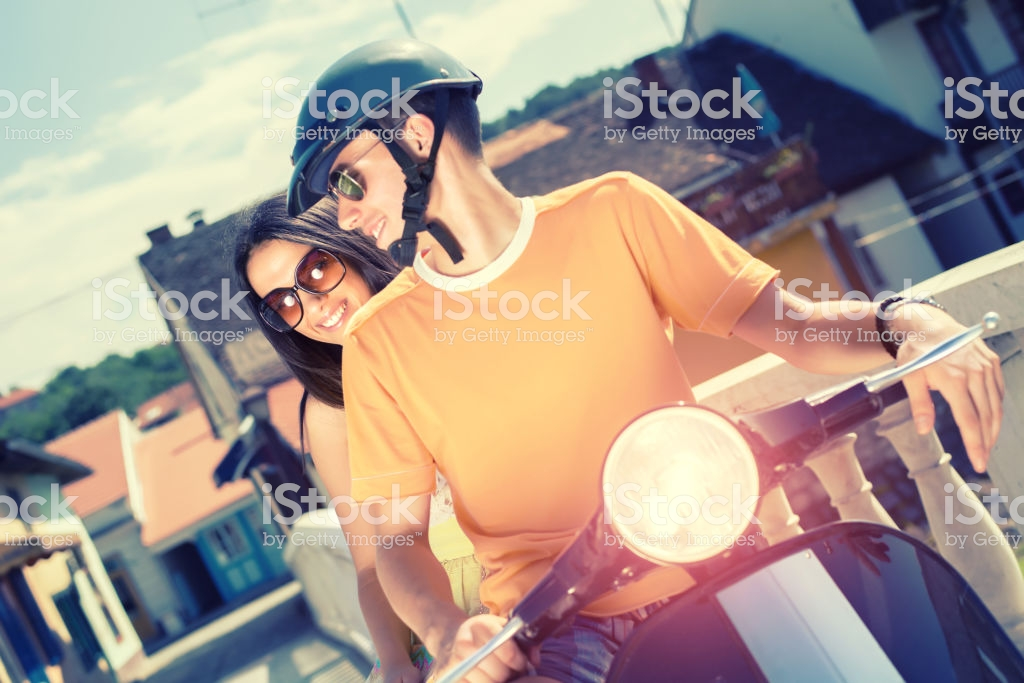helmet: (275, 36, 492, 146)
